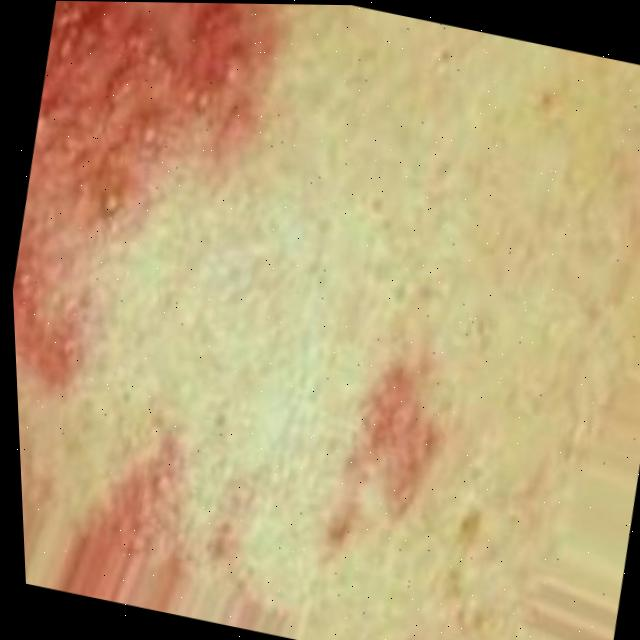Shingles: (0, 0, 325, 408), (318, 350, 493, 538), (76, 428, 260, 594)
